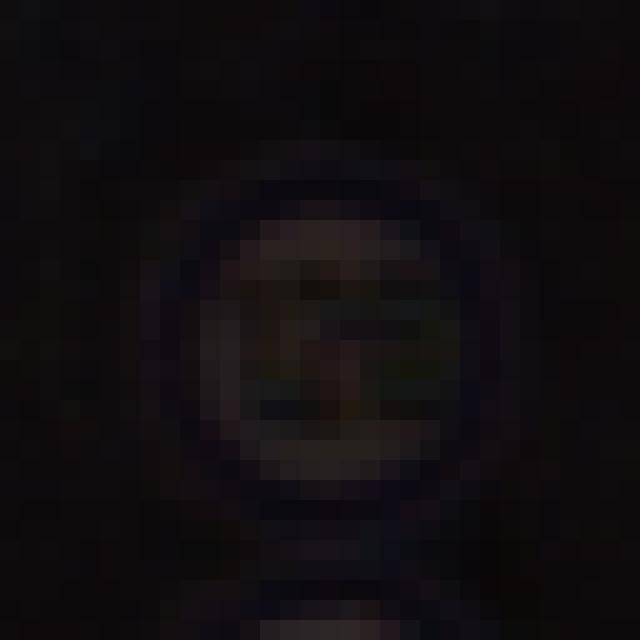SPEED LIMIT 120: (165, 170, 502, 506)
